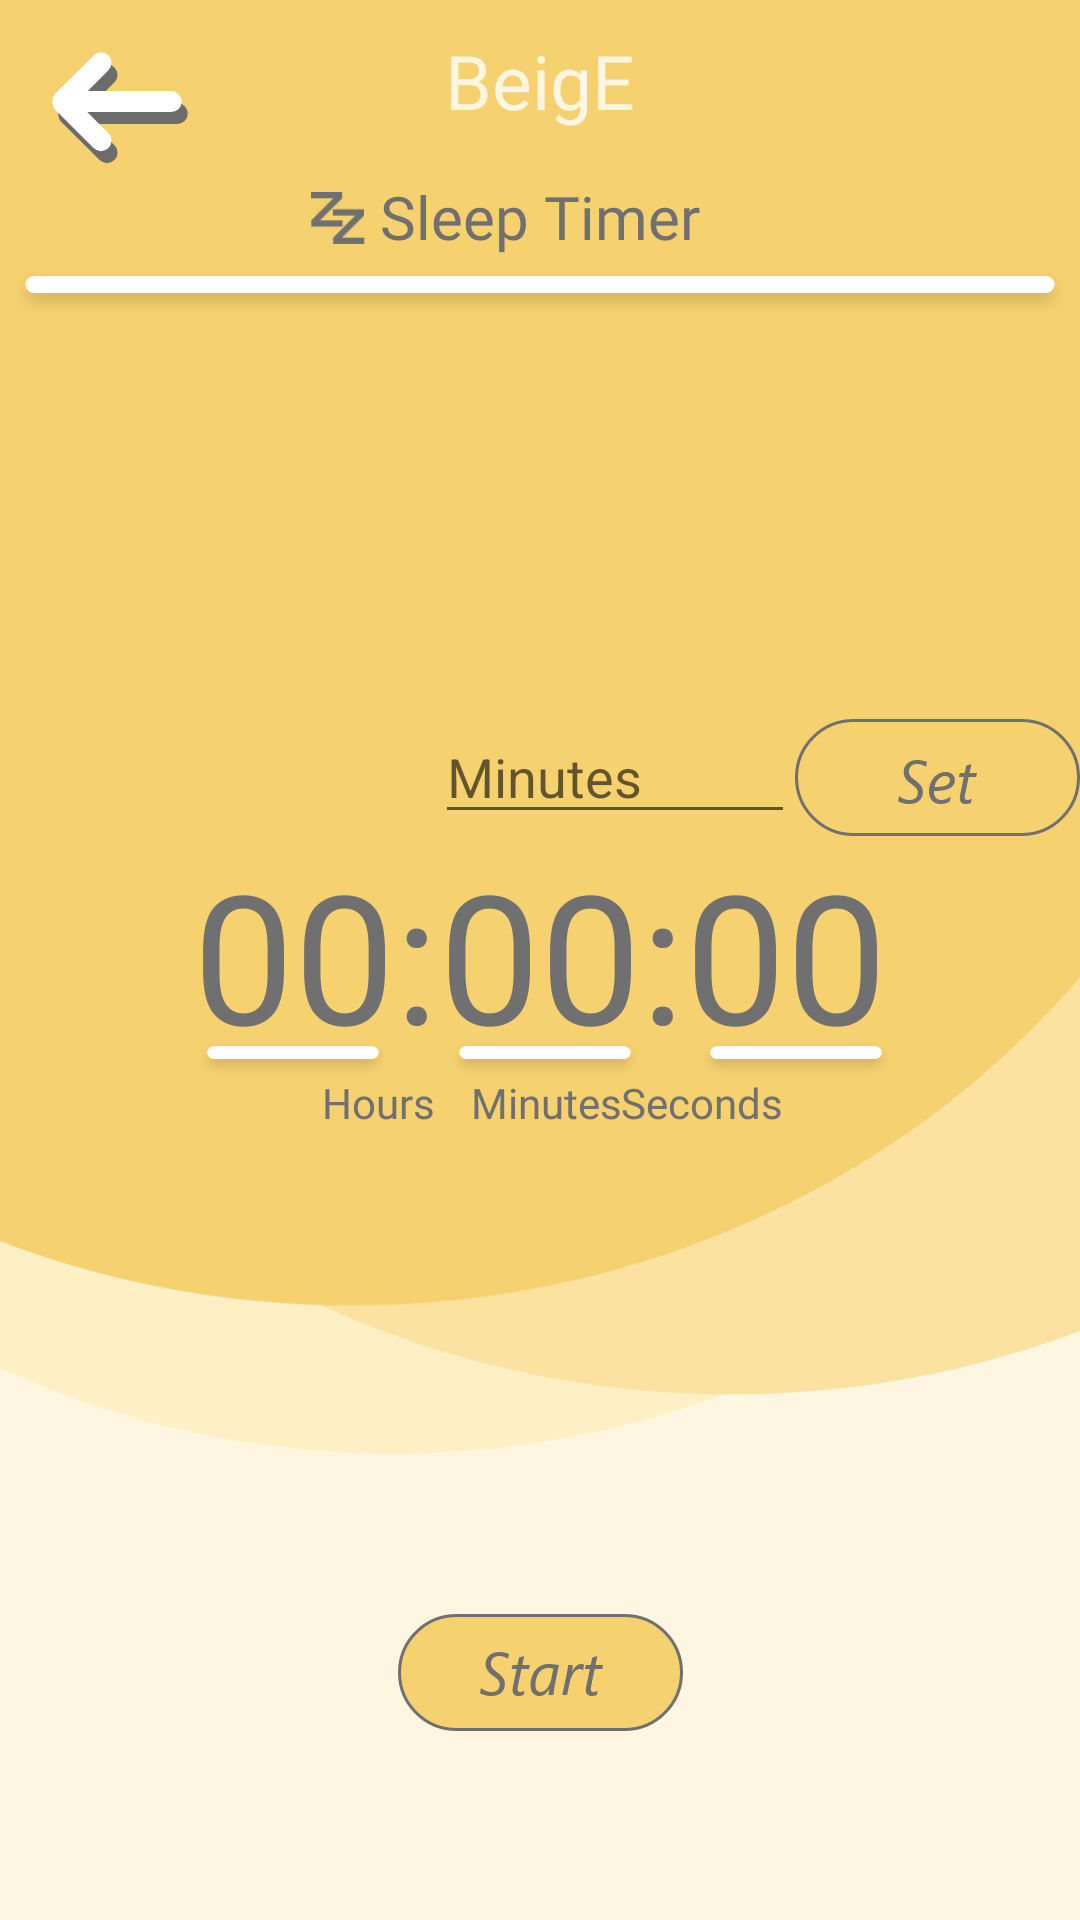

Where icons sit on this 1080px×1920px app screen, as (x1, y1, x2, y2):
backbtn: (52, 52, 188, 163)
